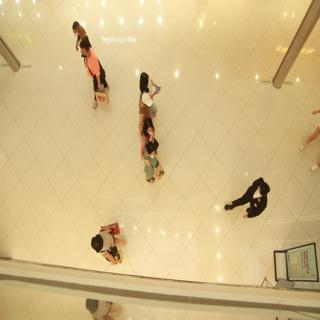person: (215, 173, 283, 222), (81, 216, 143, 266), (74, 37, 112, 109), (133, 142, 168, 184), (136, 66, 163, 118), (61, 13, 94, 48), (132, 116, 165, 147)
